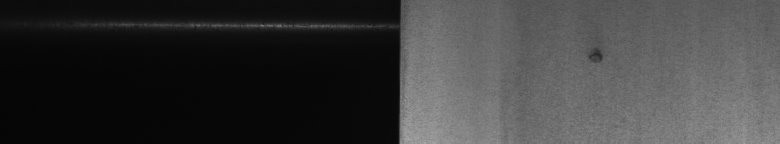fi: (584, 40, 625, 128)
